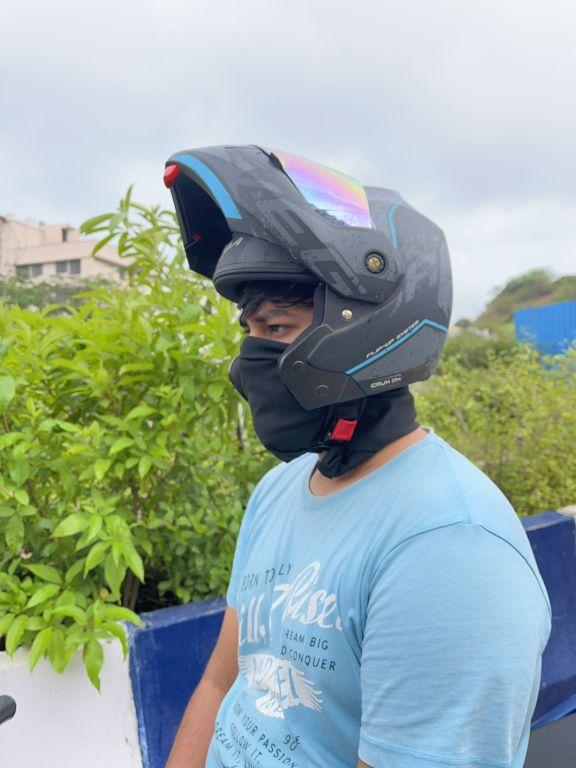helmet: (159, 135, 456, 471)
